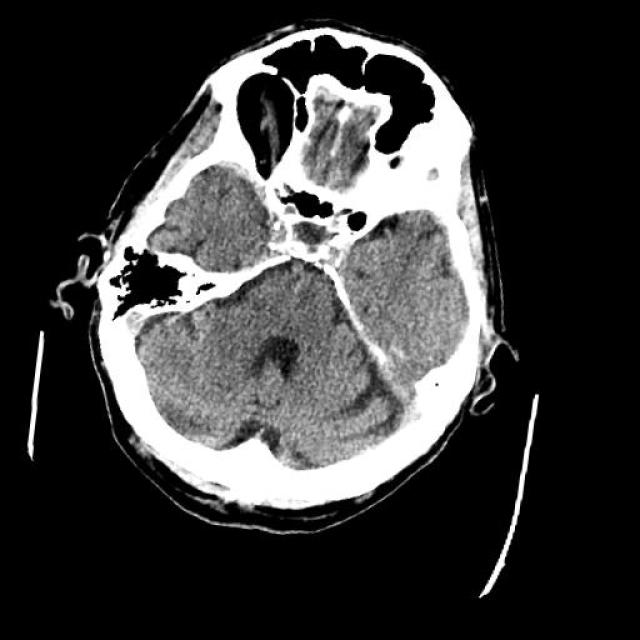Subdural: (196, 144, 279, 214)
